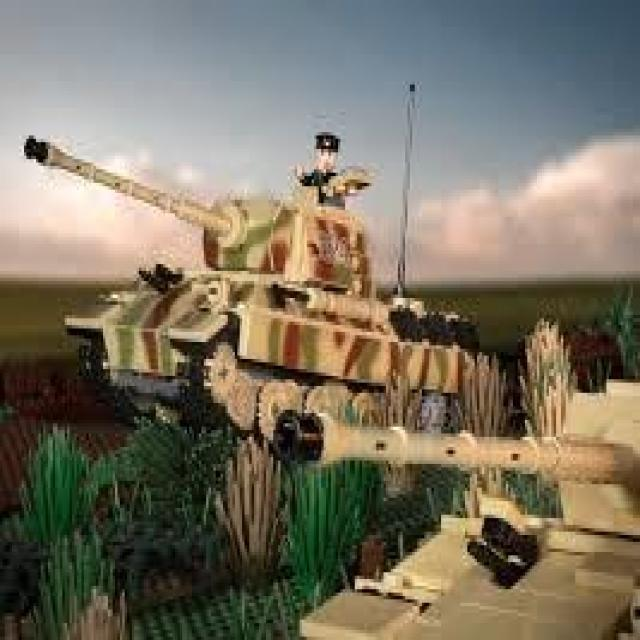Tanks: (20, 122, 492, 457)
